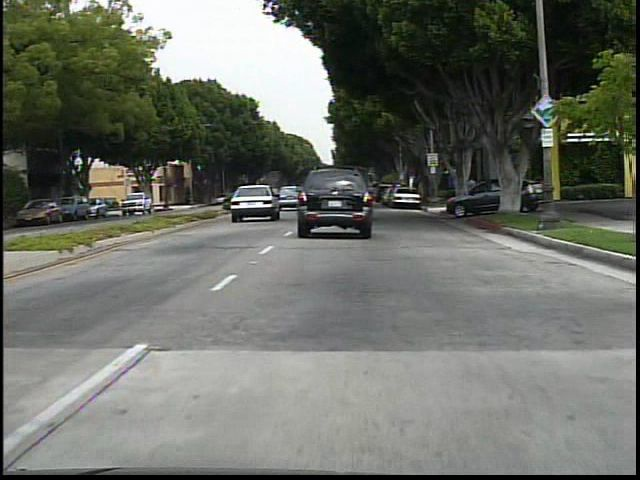person: (466, 171, 479, 192)
